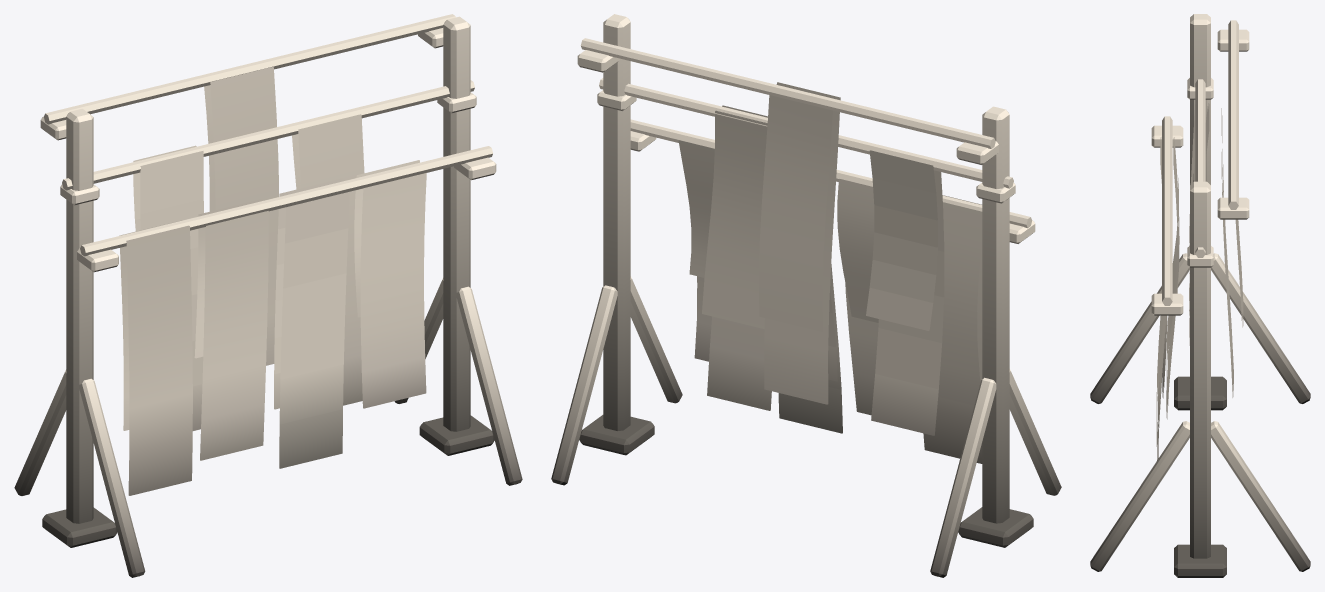
File: SM_VK_Prop_ClothRack.fbx
The picture shows the model from 3 angles, left to right: view 1: azimuth 30°, elevation 25°; view 2: azimuth 150°, elevation 25°; view 3: azimuth 270°, elevation 25°; orthographic projection. The views are drawn at different scales.
Visible parts, largest first — view 1: SM_VK_Prop_ClothRack.001; view 2: SM_VK_Prop_ClothRack.001; view 3: SM_VK_Prop_ClothRack.001.
Part boxes in pixels (left/top/right/bottom): SM_VK_Prop_ClothRack.001: left=14, top=14, right=522, bottom=577; SM_VK_Prop_ClothRack.001: left=551, top=14, right=1061, bottom=577; SM_VK_Prop_ClothRack.001: left=1090, top=14, right=1310, bottom=577.
Bounding box in the file's own units: 3.4 × 3.22 × 1.67.
